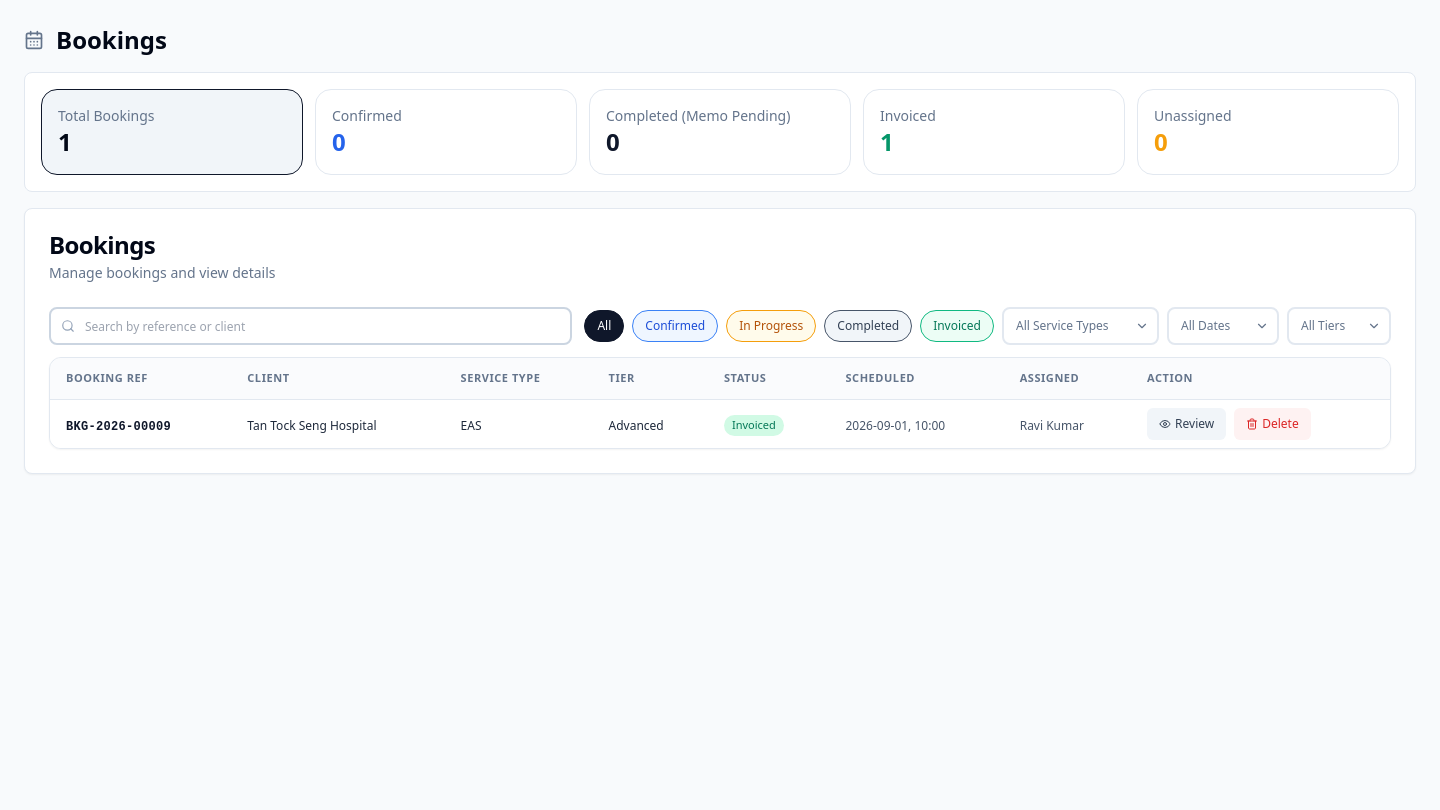
BookingListPage - delete flow › a failed delete request surfaces the backend error message
The width and height of the screenshot is (1440, 810).
expect the text "BKG-2026-00009" is shown: met, box [66, 420, 171, 434]
Click the button "Delete" at (1272,424), box [1234, 408, 1311, 440]
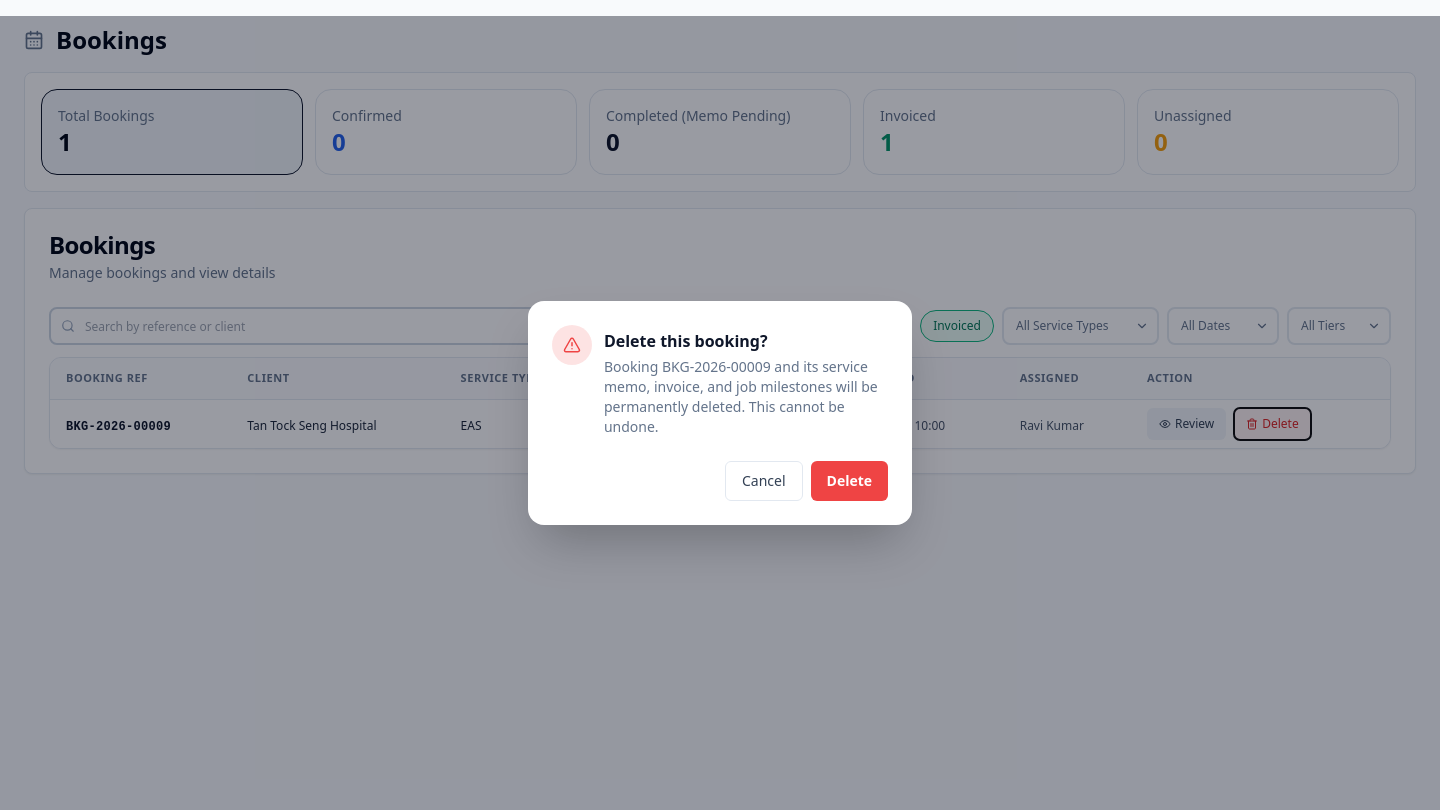
Click the button "Delete" at (849,481), box [810, 461, 888, 501]
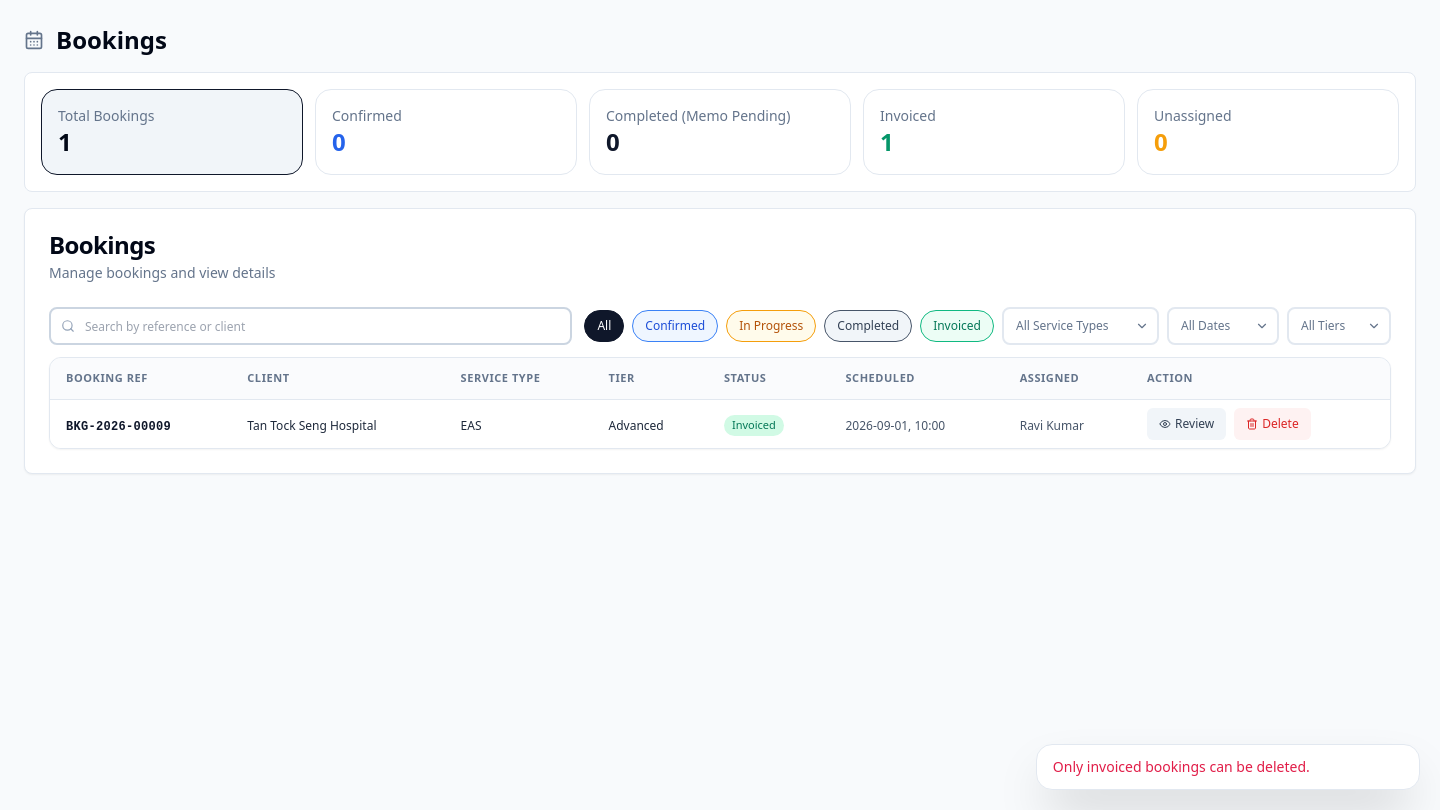
expect the text "Only invoiced bookings can be deleted." is shown: met, box [1053, 757, 1310, 776]
